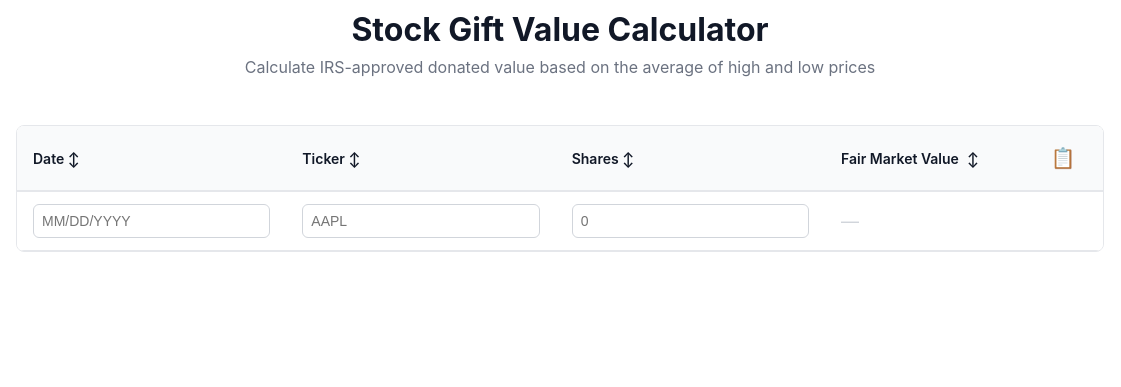
Test case: StockGiftCalculator - Column Sorting › should sort by date descending on second click
In the field named "date": [152, 221] box [33,204,270,238], type "03/15/2024"
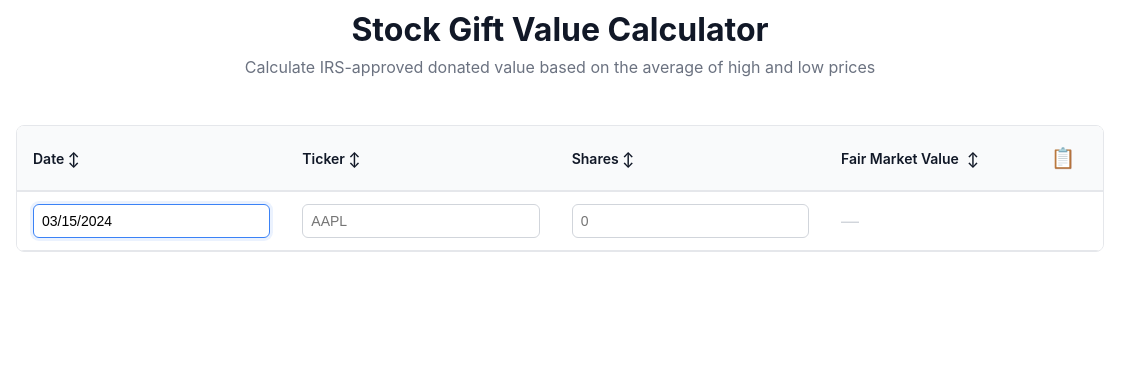
Press Tab
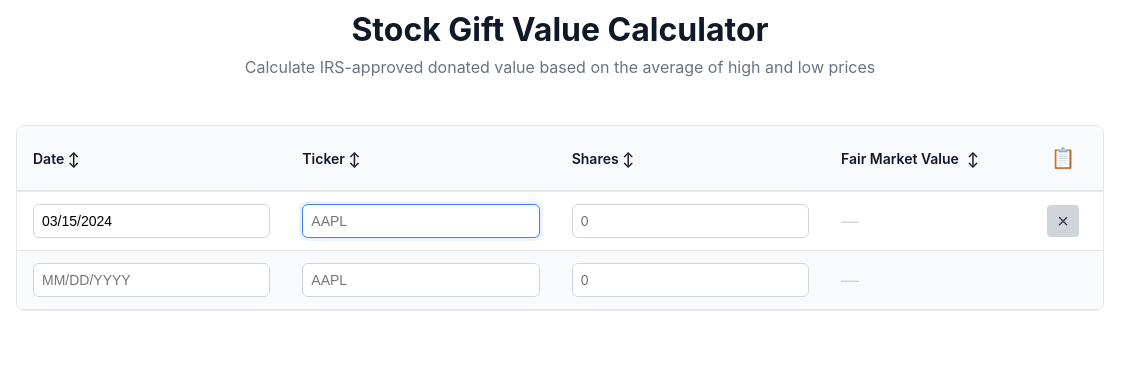
In the field named "date": [152, 280] box [33,263,270,297], type "01/10/2024"
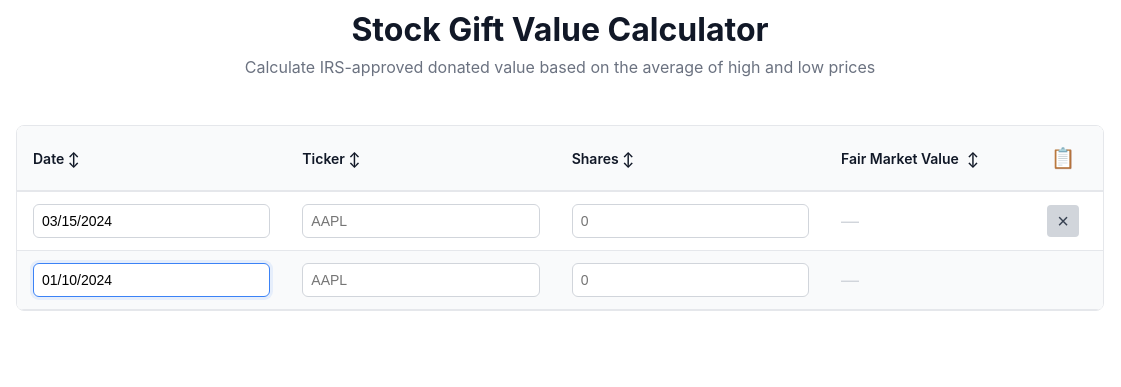
Press Tab
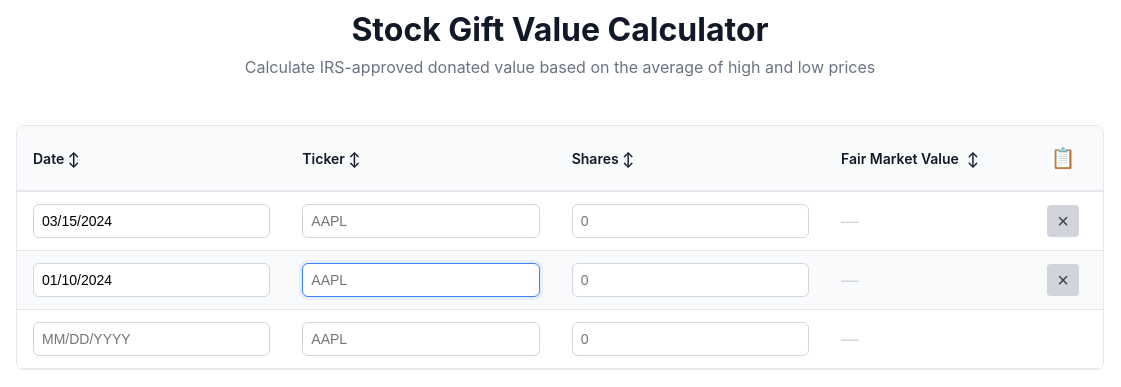
Expected: the number of fields named "date" is 3, [33,204,270,238]; [33,263,270,297]; [33,322,270,356]
Click the button "Date ↕": [152, 158] box [33,150,270,166]
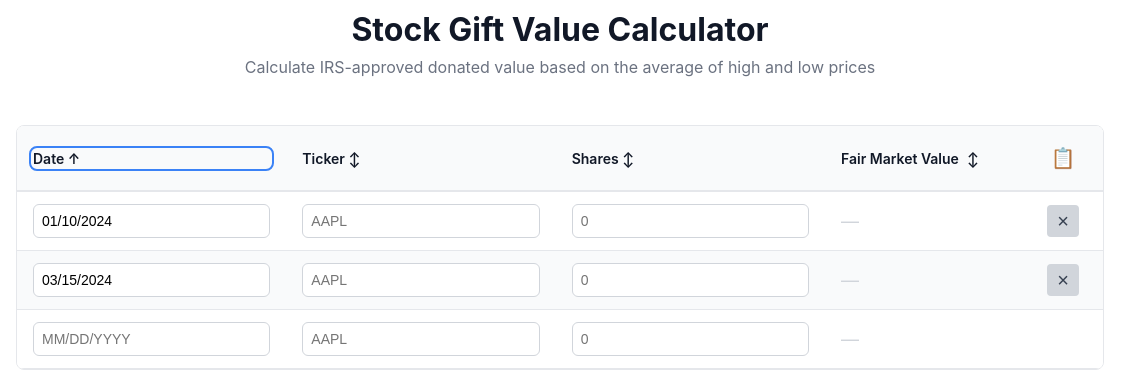
Click the button "Date ↑": [152, 158] box [33,150,270,166]
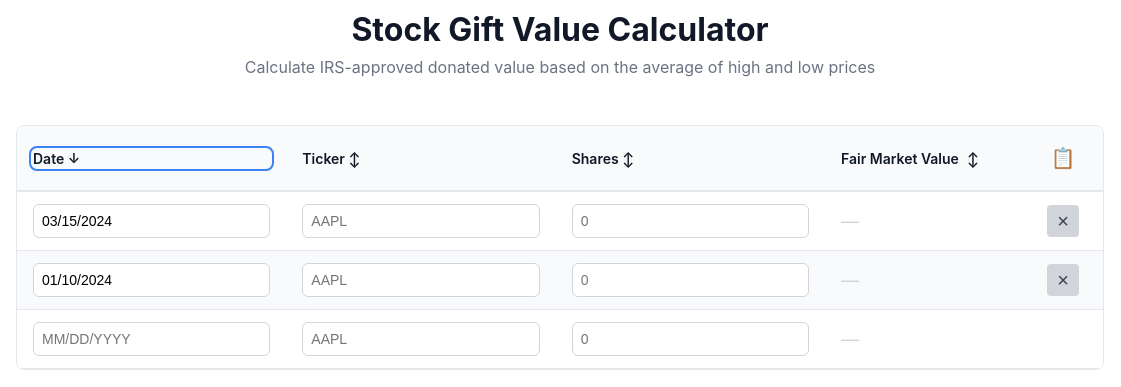
Expected: the button "Date ↓" is shown, [33,150,270,166]
